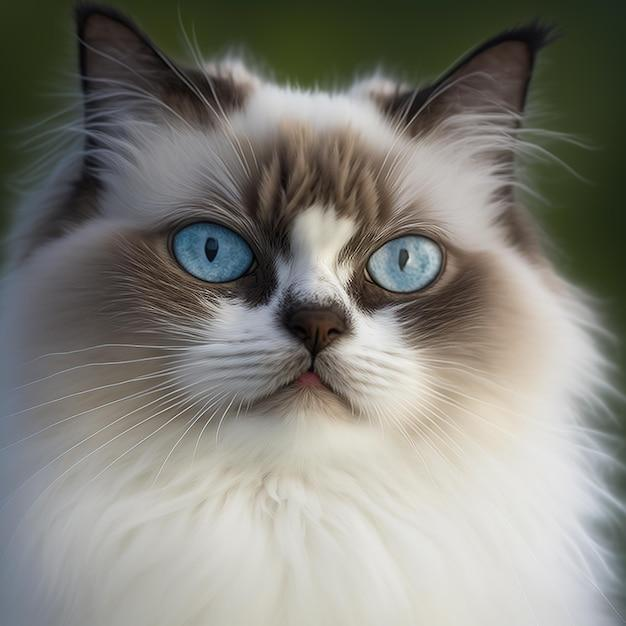ragdoll: (57, 1, 551, 476)
